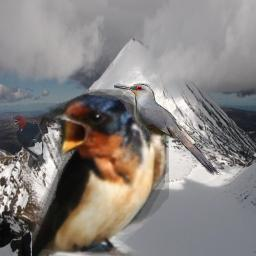Cuckoo: (114, 83, 221, 177)
Swallow: (32, 89, 169, 256)
Woodpecker: (9, 113, 48, 169)
